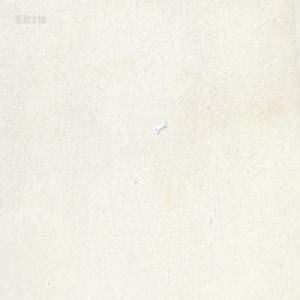Wrench: (155, 121, 167, 134)
